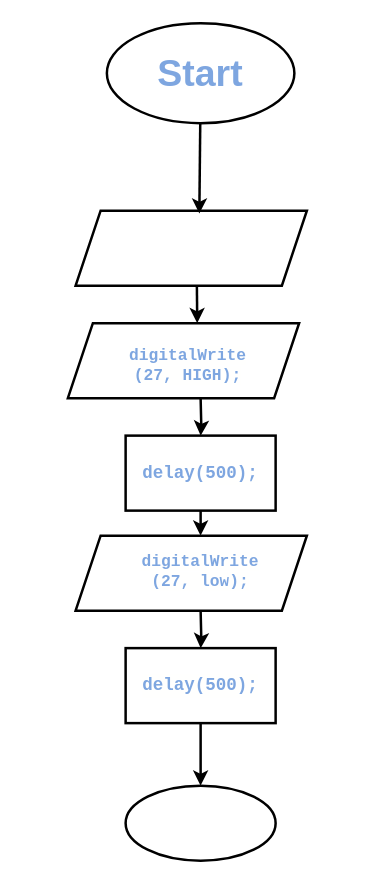
Image size: 383x883. Some labels were removed from this diagram. Here are the shapes that lost their labels. From the top down, the box of each, then its label:
(74, 209, 308, 286): pinMode ( 27 , OUTPUT );
(124, 784, 276, 861): End
